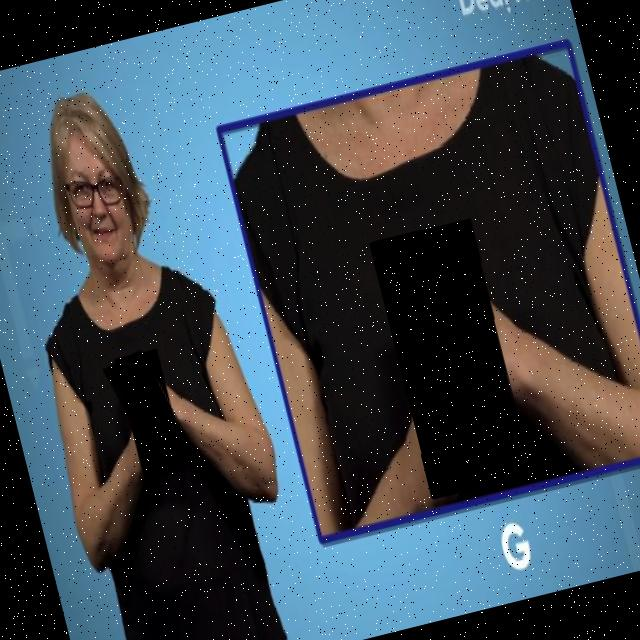G: (370, 219, 535, 500), (108, 346, 194, 480)
